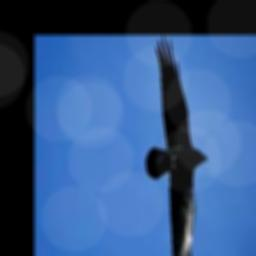Crow: (145, 34, 208, 256)
